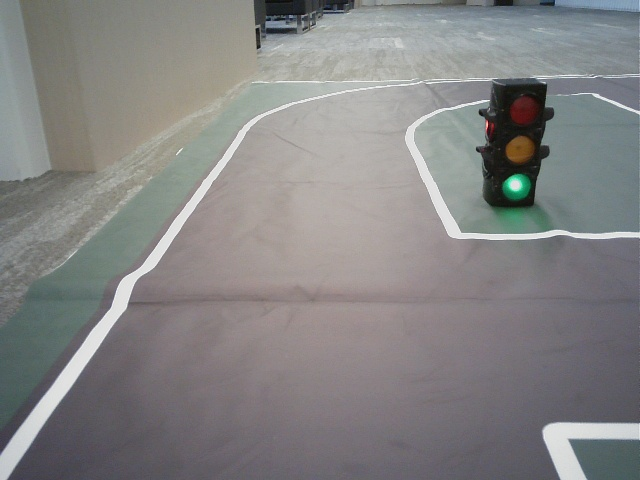green: (499, 89, 542, 201)
